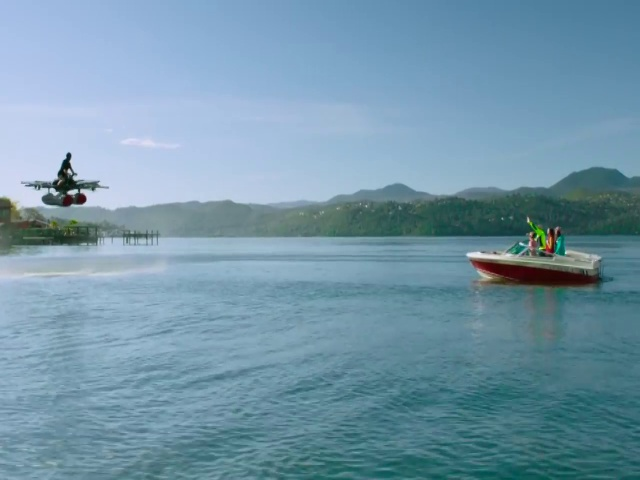drone: (19, 177, 112, 207)
